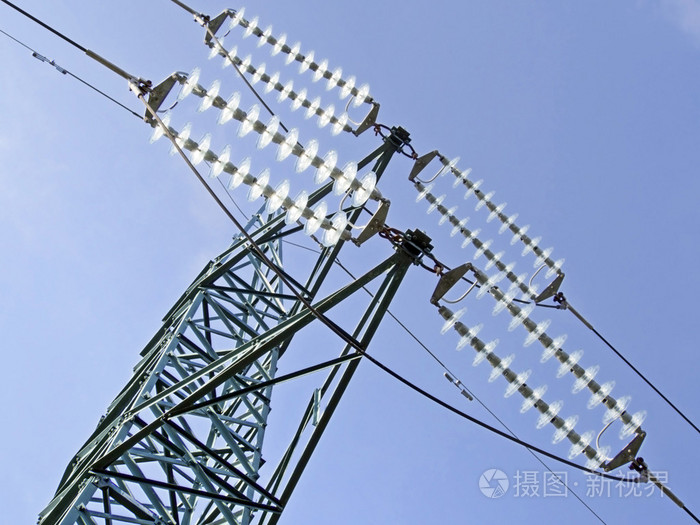insulator: (446, 276, 644, 476), (159, 70, 376, 248), (416, 159, 559, 301), (211, 8, 370, 133)
